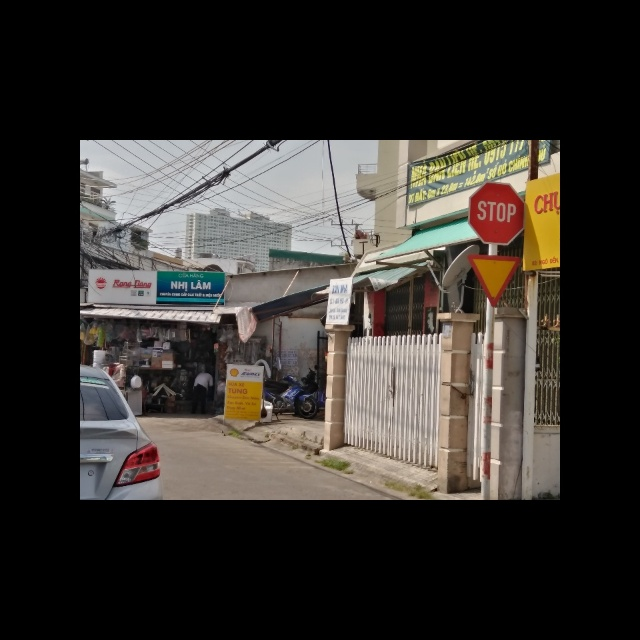Dừng lại: (468, 182, 523, 245)
Giao nhau với đường ưu tiên: (465, 252, 519, 306)
